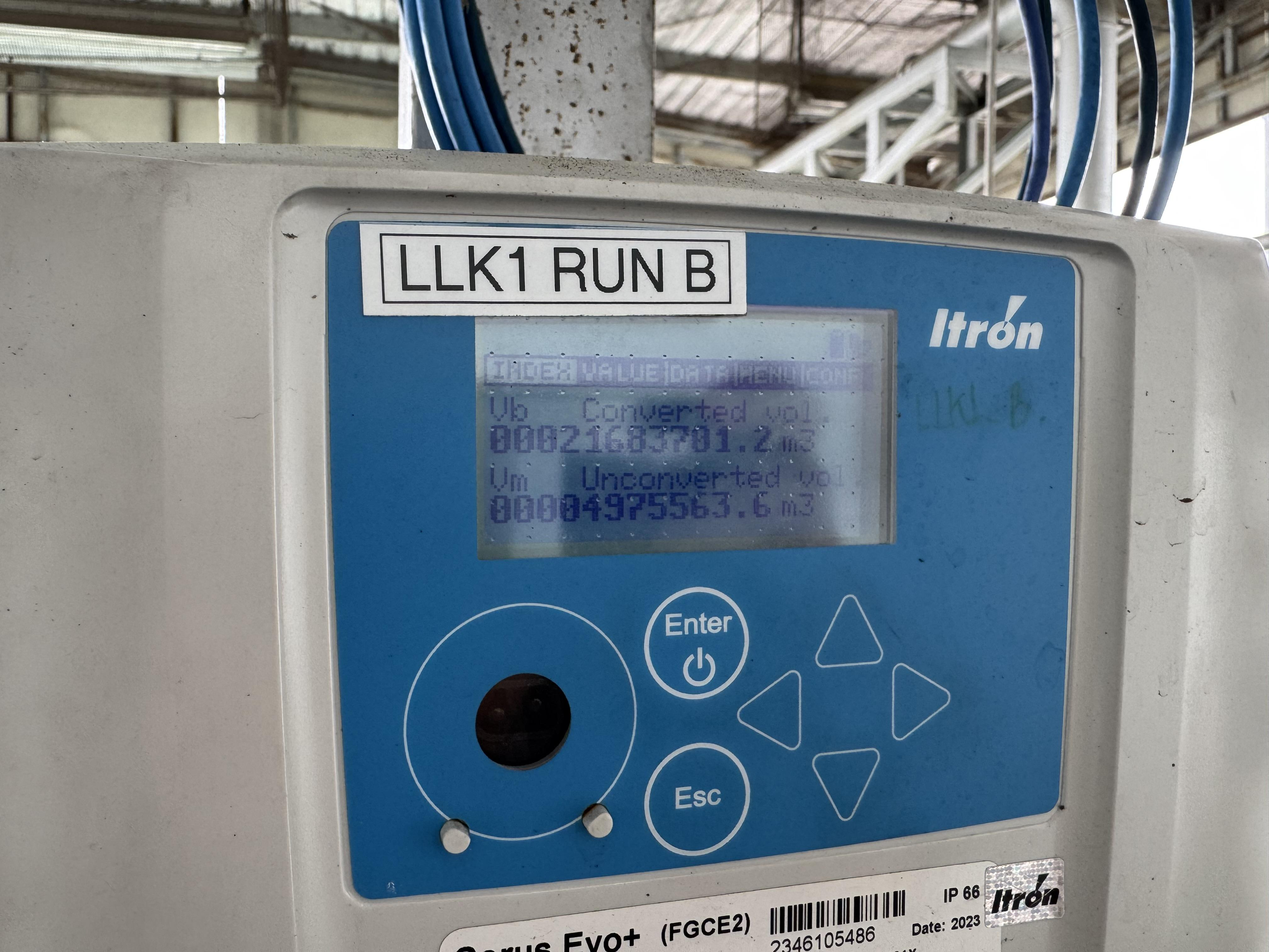digital_screen: (478, 306, 896, 559)
